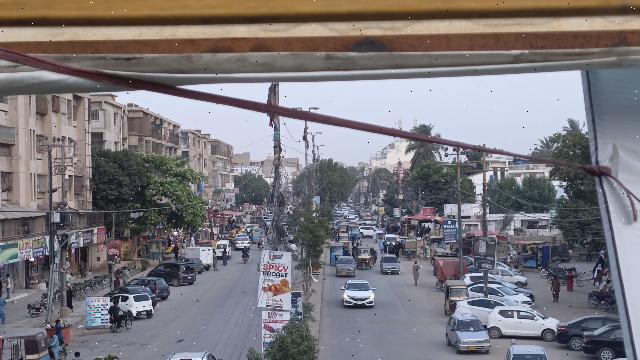Bike: (107, 316, 133, 333), (47, 344, 68, 360), (240, 252, 249, 265)
Car: (486, 305, 558, 341), (553, 314, 616, 352), (444, 312, 492, 355), (577, 318, 622, 360), (149, 260, 197, 288), (337, 279, 377, 309), (452, 296, 520, 313), (119, 292, 155, 321), (129, 276, 171, 299), (334, 255, 356, 278), (379, 254, 401, 277)
Person: (47, 330, 61, 360), (548, 274, 561, 305), (109, 300, 121, 329), (409, 260, 421, 286), (242, 245, 249, 255)
Rickshaw: (440, 279, 468, 313), (355, 245, 373, 270), (329, 242, 344, 265)
Truck: (184, 245, 214, 269)
